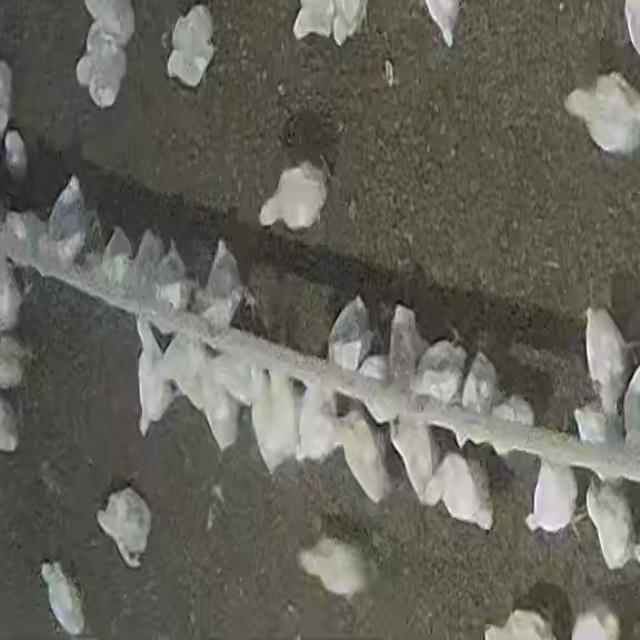chicken: (562, 68, 640, 154), (334, 413, 394, 506), (297, 536, 371, 601), (251, 369, 299, 469), (585, 306, 627, 416), (168, 2, 220, 90), (96, 486, 150, 568), (135, 320, 173, 434), (75, 26, 130, 104), (586, 485, 636, 570), (389, 413, 437, 501), (434, 454, 490, 529), (46, 177, 92, 266), (200, 235, 244, 325), (573, 404, 633, 469), (414, 339, 470, 408), (259, 172, 326, 229), (574, 405, 621, 485), (40, 561, 86, 635), (329, 296, 373, 371), (297, 383, 337, 462), (200, 370, 240, 449), (164, 333, 207, 405), (387, 304, 425, 384), (459, 350, 500, 420), (530, 469, 575, 532), (87, 0, 144, 49), (362, 370, 410, 427), (484, 605, 551, 640), (99, 224, 135, 289), (290, 0, 343, 44), (568, 599, 622, 640), (491, 392, 545, 432), (216, 352, 257, 403), (158, 242, 189, 308), (0, 254, 24, 331), (421, 1, 462, 46), (335, 0, 371, 50), (2, 209, 34, 260), (135, 231, 161, 291), (1, 334, 30, 387), (3, 128, 29, 187), (0, 65, 17, 145), (0, 392, 21, 454), (358, 353, 390, 382)
